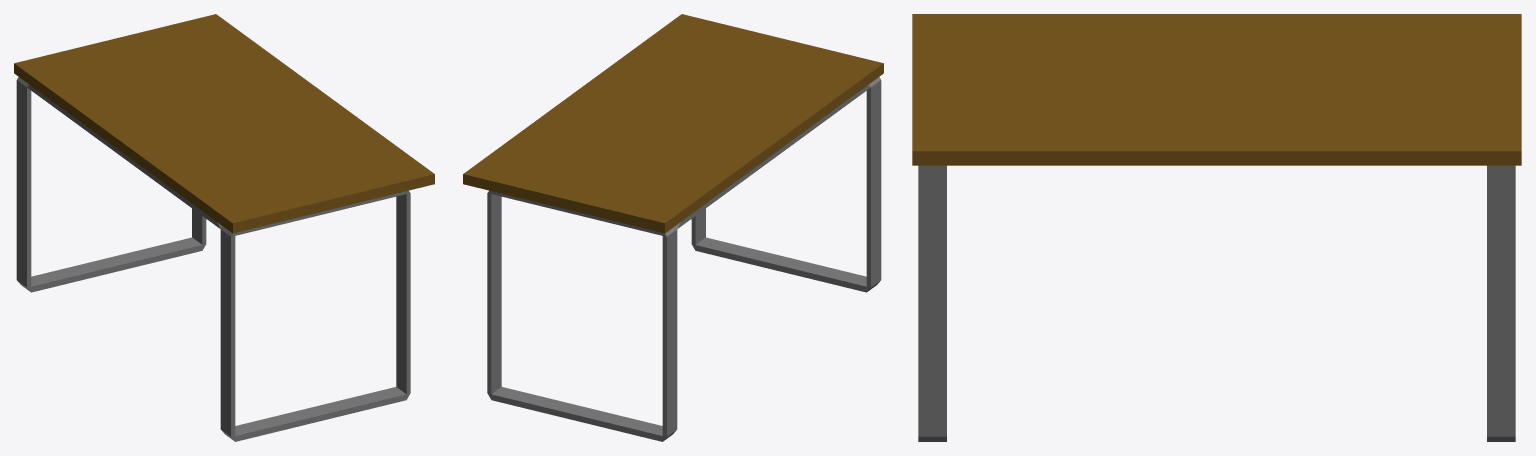
File: table3.fbx
The picture shows the model from 3 angles, left to right: view 1: azimuth 30°, elevation 25°; view 2: azimuth 150°, elevation 25°; view 3: azimuth 270°, elevation 25°; orthographic projection. The views are drawn at different scales.
Parts seen in each view (by area): view 1: Cube.001, Cube; view 2: Cube.001, Cube; view 3: Cube.001, Cube.
Boxes of the visible parts, x1=… form: Cube.001: x1=14, y1=14, x2=434, y2=233; Cube: x1=16, y1=77, x2=410, y2=441; Cube.001: x1=463, y1=14, x2=883, y2=233; Cube: x1=487, y1=77, x2=881, y2=441; Cube.001: x1=912, y1=14, x2=1521, y2=165; Cube: x1=918, y1=165, x2=1515, y2=441.
Size of the model in its own units: 163 by 170 by 305.
